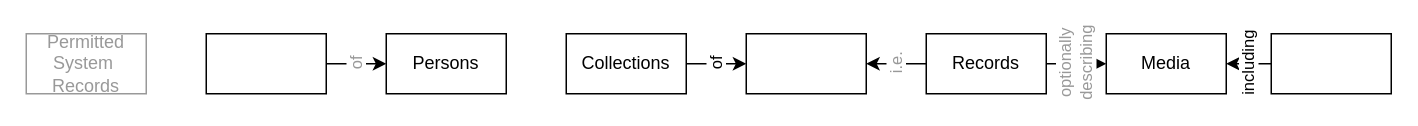
Image size: 1418x126. Some labels were removed from this diagram. The shapes that lost their labels are listed below. From the top down, each one's box as (x1, y1, x2, y2) in pixels, then its label:
(205, 32, 326, 94): Groups
(745, 32, 866, 94): Resources
(1270, 32, 1391, 94): Previously Generated Reports
